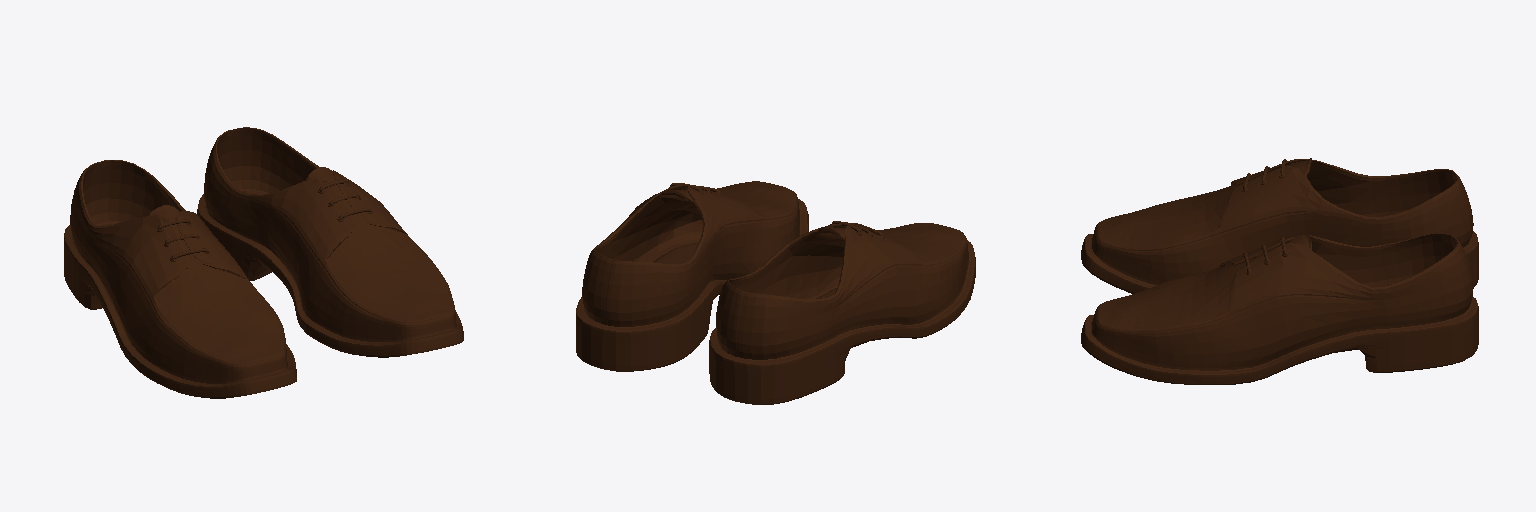
Rendered from 男士鞋子_01.obj.
3 views of the same model, side by side, from view 1: azimuth 30°, elevation 25°; view 2: azimuth 150°, elevation 25°; view 3: azimuth 270°, elevation 25° (orthographic).
Parts seen in each view (by area): view 1: 男士皮鞋_01; view 2: 男士皮鞋_01; view 3: 男士皮鞋_01.
Boxes of the visible parts, box(x1,y1,x2,y2) form: 男士皮鞋_01: box(64, 127, 463, 398); 男士皮鞋_01: box(576, 181, 975, 404); 男士皮鞋_01: box(1081, 158, 1478, 384).
Bounding box in the file's own units: 7.15 × 2.69 × 8.29.